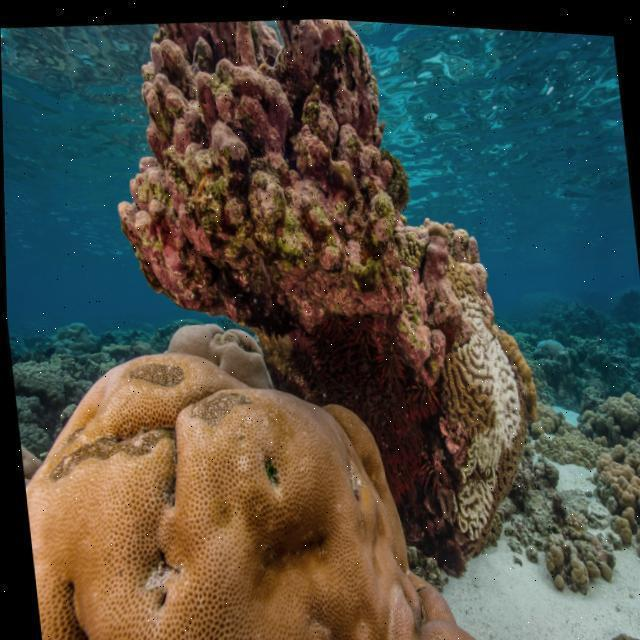Bleached Coral: (452, 293, 517, 531)
Healthy Coral: (25, 337, 396, 640), (596, 427, 640, 546), (542, 526, 615, 579), (572, 384, 640, 438)
